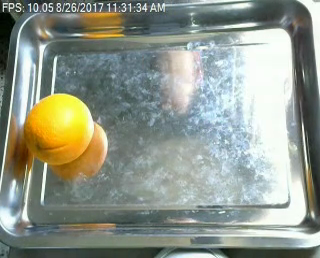Orange: (24, 92, 95, 165)
